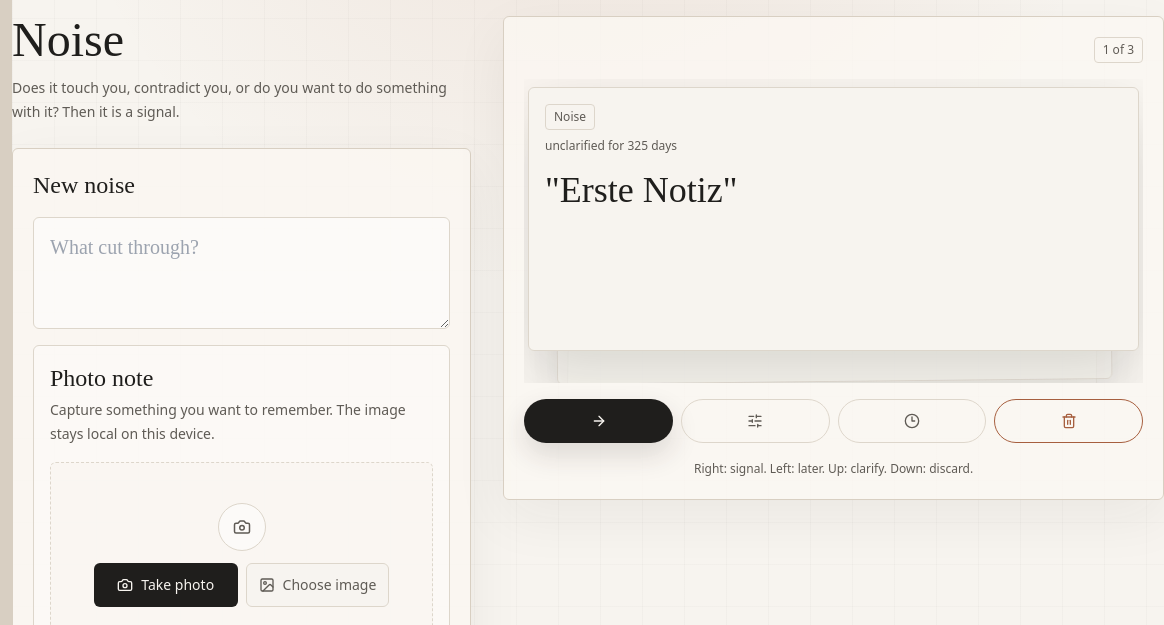
InboxPage › Details › bietet in den Details weder Art, Signalstärke noch Ort an
The width and height of the screenshot is (1164, 625).
Expected: the text "\"Erste Notiz\"" is shown, [545, 170, 738, 210]
Click the button named "Clarify".
click(755, 421)  # box [681, 399, 830, 443]
(page scrolled)
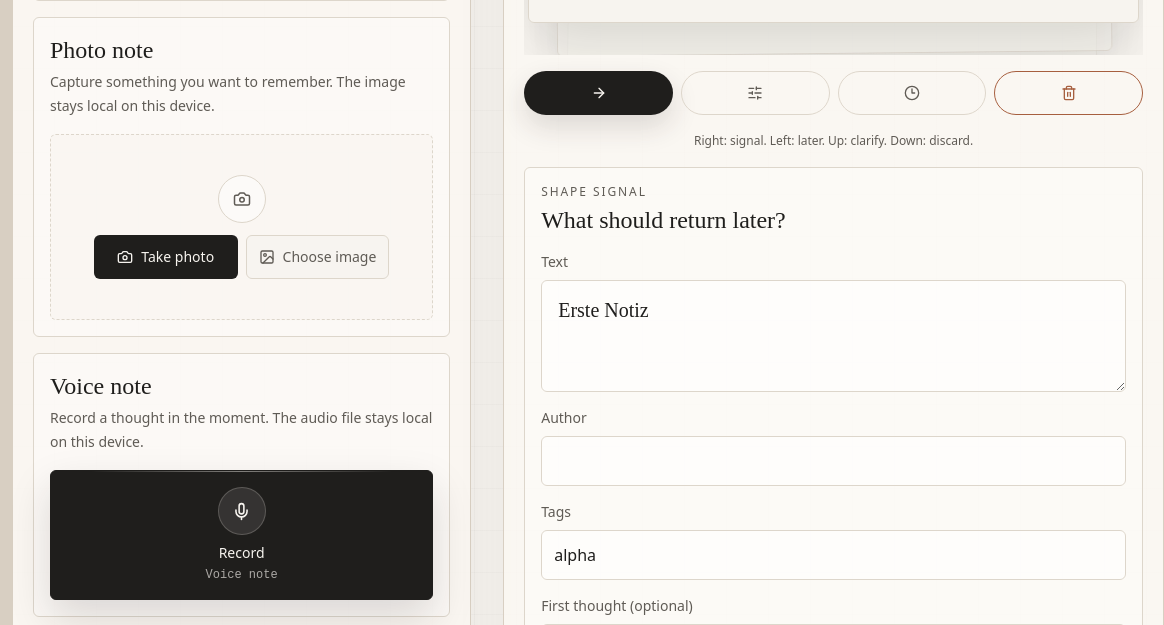
Now the text box labelled "Text" is shown, box [541, 280, 1126, 392]
